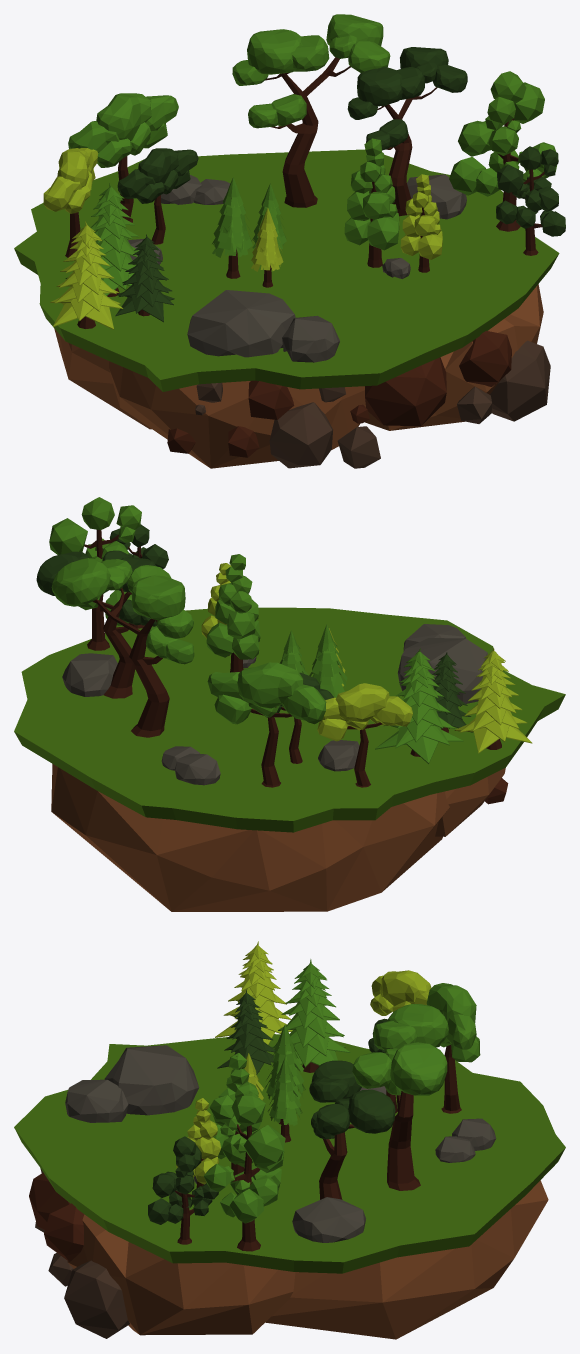
The model's file is Lowpoly Trees.FBX.
The picture shows the model from 3 angles, top to bottom: view 1: azimuth 30°, elevation 25°; view 2: azimuth 150°, elevation 25°; view 3: azimuth 270°, elevation 25°; orthographic projection. The views are drawn at different scales.
Parts seen in each view (by area): view 1: lowpoly.taobao.com (×2); view 2: lowpoly.taobao.com (×2); view 3: lowpoly.taobao.com (×2).
Part boxes in pixels (left/top/right/bottom): lowpoly.taobao.com (×2): left=14, top=14, right=565, bottom=468; lowpoly.taobao.com (×2): left=14, top=497, right=565, bottom=911; lowpoly.taobao.com (×2): left=14, top=941, right=565, bottom=1339.
Size of the model in its own units: 3751 by 2285 by 3613.
